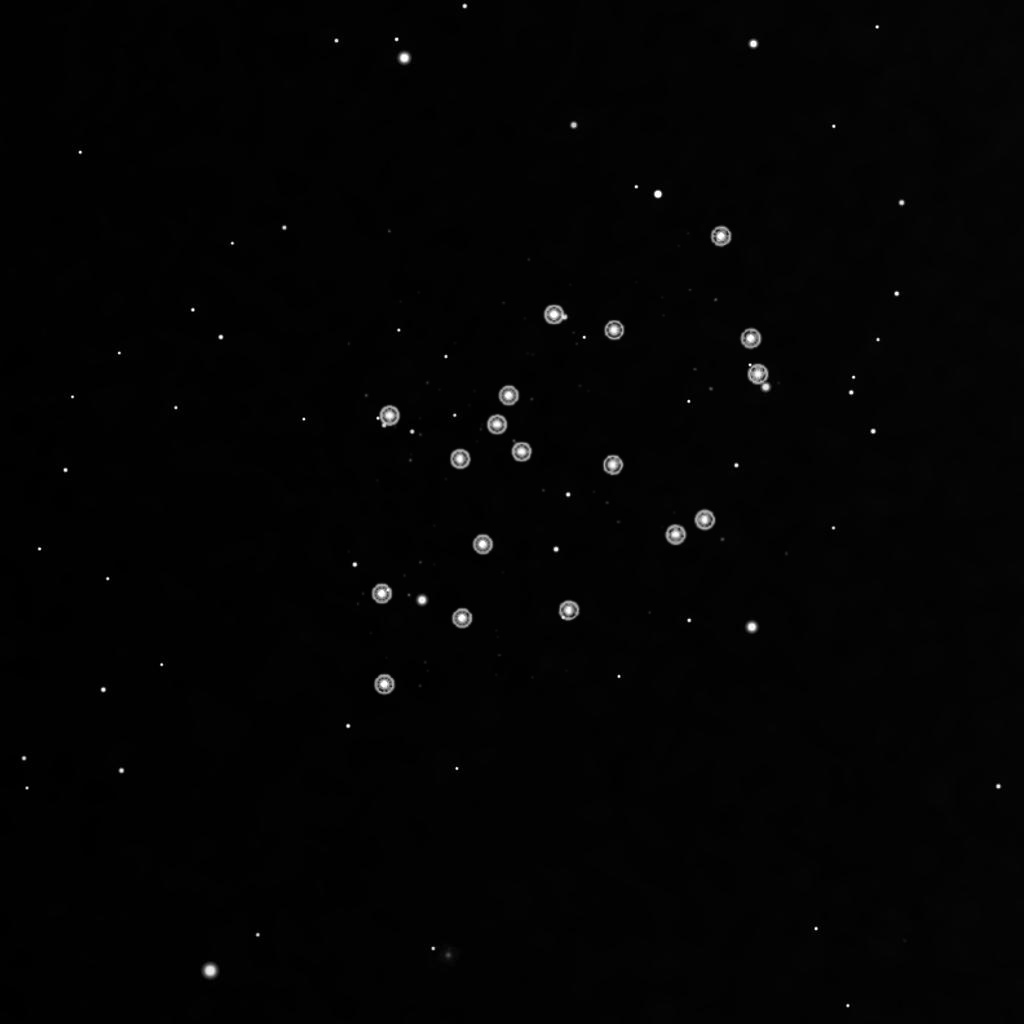canis_major: (443, 303, 630, 475)
